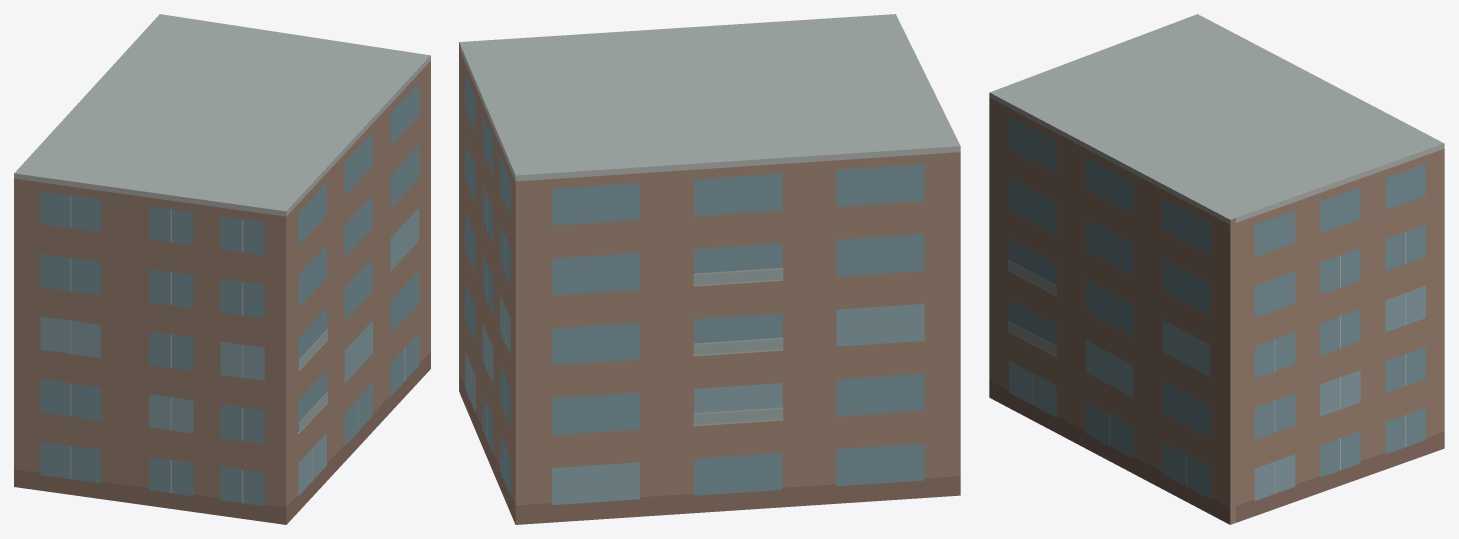
File: survey-upis-32839904.glb
The picture shows the model from 3 angles, left to right: view 1: azimuth 30°, elevation 25°; view 2: azimuth 150°, elevation 25°; view 3: azimuth 270°, elevation 25°; orthographic projection. The views are drawn at different scales.
Parts seen in each view (by area): view 1: survey-upis-32839904.tmp; view 2: survey-upis-32839904.tmp; view 3: survey-upis-32839904.tmp.
Boxes of the visible parts, x1,y1,x2,y2 form: survey-upis-32839904.tmp: [14, 14, 430, 524]; survey-upis-32839904.tmp: [459, 14, 960, 524]; survey-upis-32839904.tmp: [989, 14, 1444, 524].
Size of the model in its own units: 20.85 by 14.4 by 19.48.
